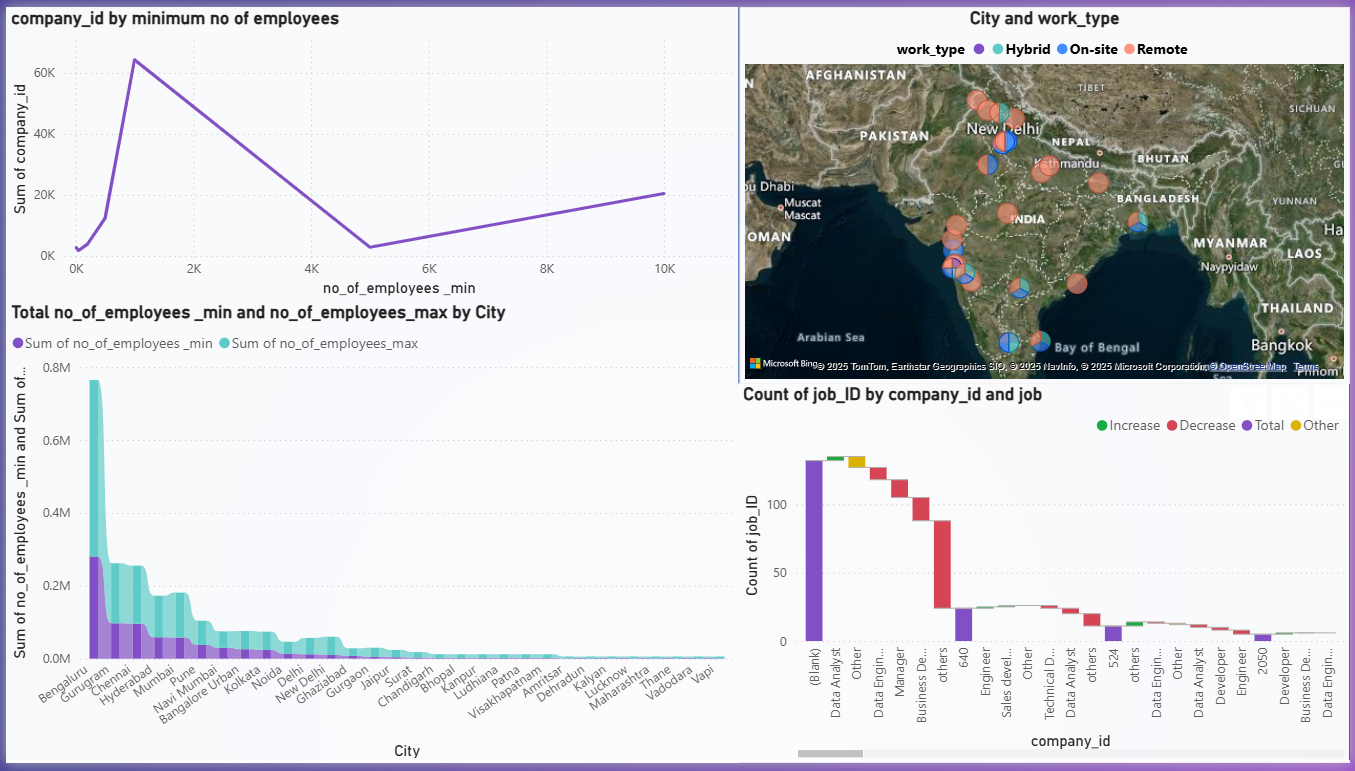

This screenshot's page, from the dashboard's own definition file:
{"tool":"powerbi","page":{"name":"Page 3","canvas":[1280,720],"ordinal":2},"visuals":[{"type":"lineChart","fields":{"Y":["Sum(linkdin_Job_data.company_id)"],"Category":["linkdin_Job_data.no_of_employees _min"]},"box":[0,0,697.3,279.7],"z":0},{"type":"ribbonChart","fields":{"Category":["linkdin_Job_data.City"],"Y":["Sum(linkdin_Job_data.no_of_employees _min)","Sum(linkdin_Job_data.no_of_employees_max)"]},"box":[0,279.7,697.3,440.3],"z":1000},{"type":"map","fields":{"Category":["linkdin_Job_data.City"],"Series":["linkdin_Job_data.work_type"]},"box":[698,0,581.5,358.9],"z":2000},{"type":"waterfallChart","fields":{"Category":["linkdin_Job_data.company_id"],"Breakdown":["linkdin_Job_data.job"],"Y":["CountNonNull(linkdin_Job_data.job_ID)"]},"box":[697.3,359.1,582.1,360.9],"z":3000}]}

Visuals, with their boxes in screenshot pixels (x1, y1, x2, y2), scaled from the page's 1280x720 canvas onto the 1355x771 screenshot:
lineChart - Sum(linkdin_Job_data.company_id) x linkdin_Job_data.no_of_employees _min: crop(0, 0, 738, 300)
ribbonChart - linkdin_Job_data.City x Sum(linkdin_Job_data.no_of_employees _min): crop(0, 300, 738, 770)
map - linkdin_Job_data.City x linkdin_Job_data.work_type: crop(739, 0, 1354, 384)
waterfallChart - linkdin_Job_data.company_id x linkdin_Job_data.job: crop(738, 385, 1354, 770)
